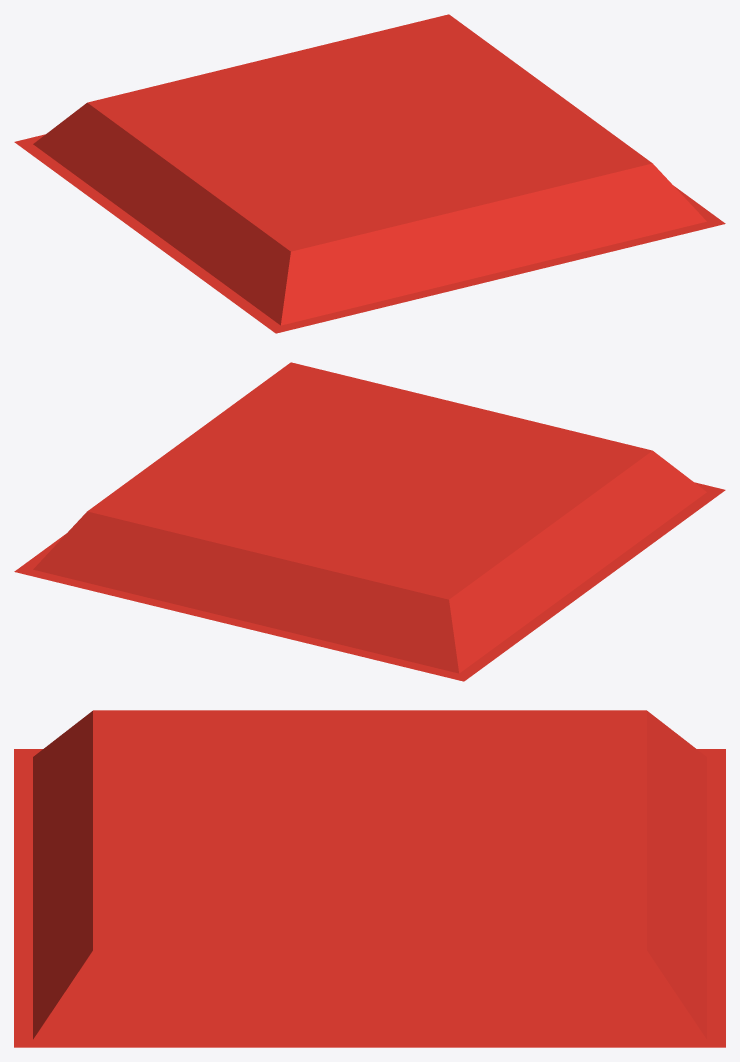
File: Museum_Ceilling_01.fbx
3 views of the same model, one above another, from view 1: azimuth 30°, elevation 25°; view 2: azimuth 150°, elevation 25°; view 3: azimuth 270°, elevation 25° (orthographic). The views are drawn at different scales.
Visible parts, largest first — view 1: Archi_Plafond_01.001; view 2: Archi_Plafond_01.001; view 3: Archi_Plafond_01.001.
Part boxes in pixels (<box>): Archi_Plafond_01.001: <box>14,14,725,333</box>; Archi_Plafond_01.001: <box>14,362,725,681</box>; Archi_Plafond_01.001: <box>14,710,725,1047</box>.
Bounding box in the file's own units: 543 × 57.52 × 547.
